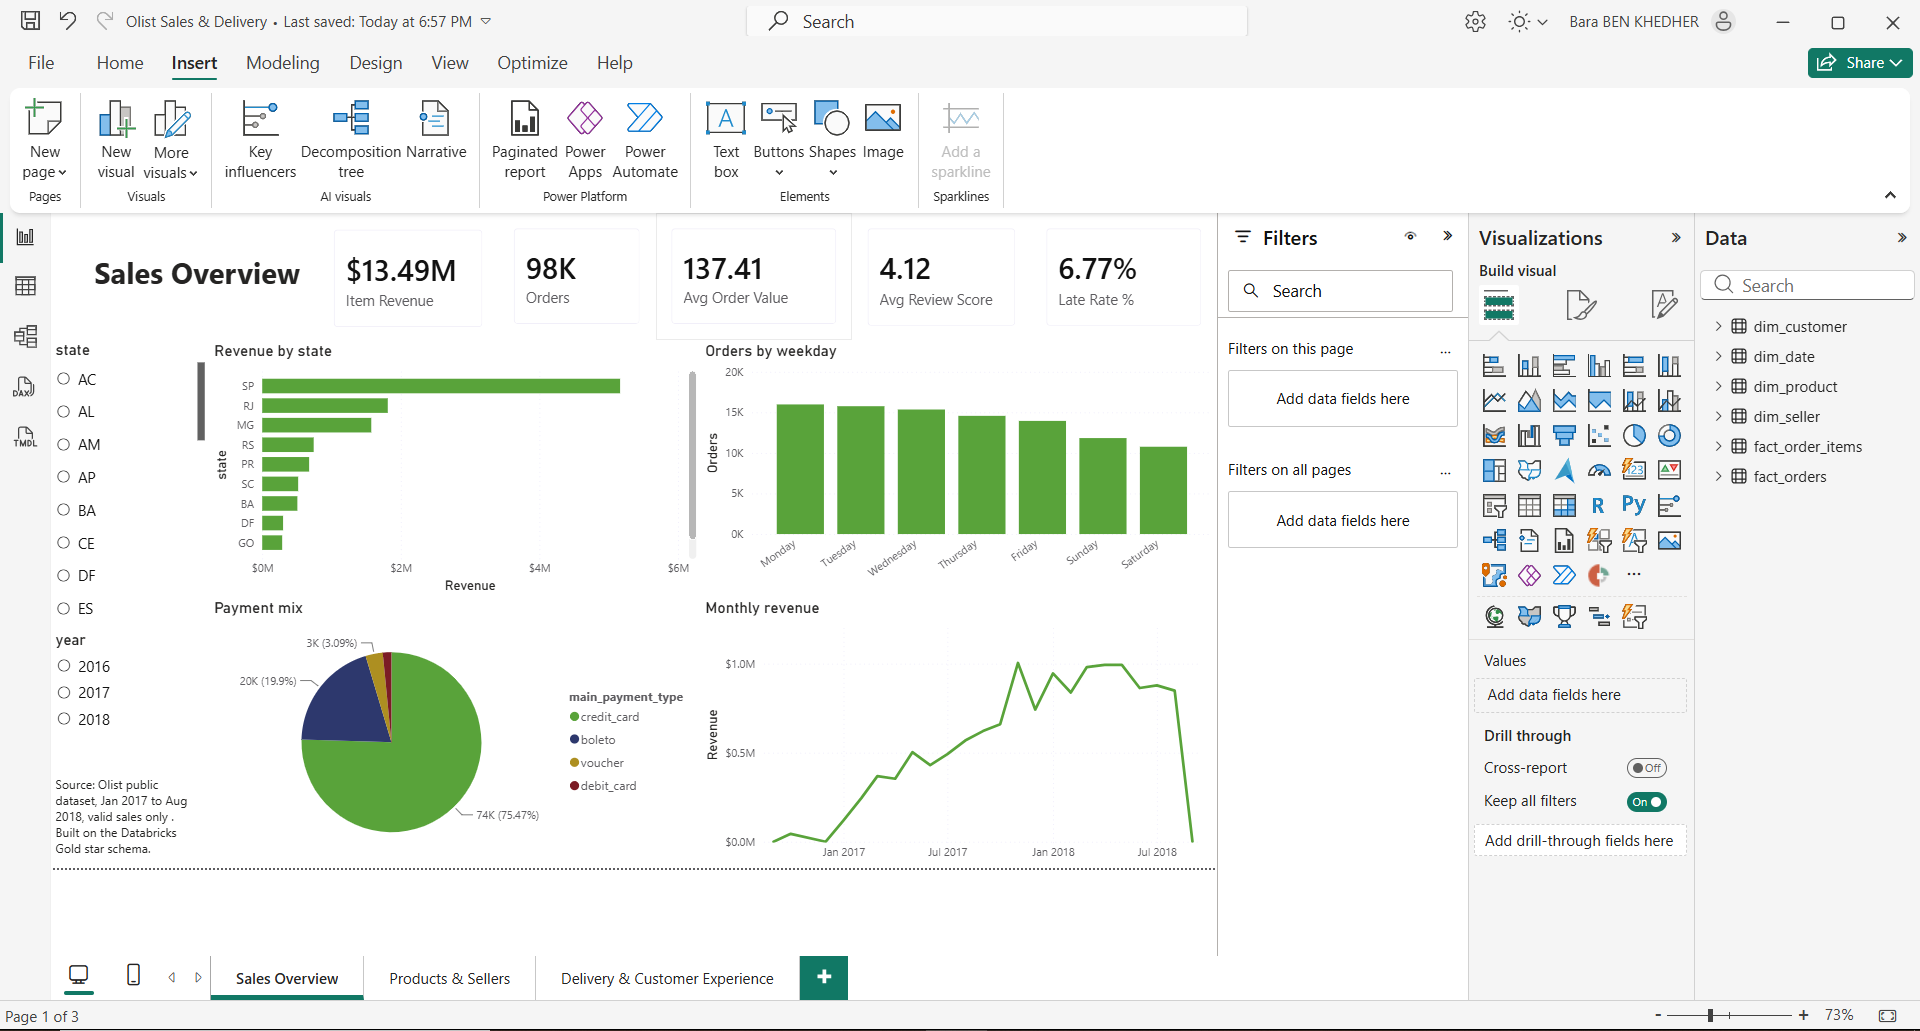

Layout of this report page (visuals, bound fields, positions):
{"tool":"powerbi","page":{"name":"Sales Overview","canvas":[1280,720],"ordinal":0},"visuals":[{"type":"listSlicer","fields":{"Values":["dim_date.year"]},"box":[0,458.3,174.3,262.1],"z":0},{"type":"listSlicer","fields":{"Values":["dim_customer.state"]},"box":[0,140,174.3,318.4],"z":1000},{"type":"cardVisual","fields":{"Data":["fact_orders.Item Revenue"]},"box":[293.7,1.4,197.6,141.3],"z":2000},{"type":"cardVisual","fields":{"Data":["fact_orders.Orders"]},"box":[491.3,0,172.9,140],"z":3000},{"type":"cardVisual","fields":{"Data":["fact_orders.Avg Order Value"]},"box":[664.2,0,215.4,140],"z":4000},{"type":"cardVisual","fields":{"Data":["fact_orders.Avg Review Score"]},"box":[879.6,0,196.2,141.3],"z":5000},{"type":"cardVisual","fields":{"Data":["fact_orders.Late Rate %"]},"box":[1075.8,0,204.5,141.3],"z":6000},{"type":"lineChart","title":"Monthly revenue","fields":{"Category":["dim_date.year_month"],"Y":["fact_orders.Revenue"]},"box":[713.6,422.6,566.7,297.8],"z":7000},{"type":"pieChart","title":"Payment mix","fields":{"Category":["fact_orders.main_payment_type"],"Y":["fact_orders.Orders"]},"box":[174.3,422.6,539.3,297.8],"z":8000},{"type":"clusteredColumnChart","title":"Orders by weekday","fields":{"Category":["dim_date.day_name"],"Y":["fact_orders.Orders"]},"box":[713.6,141.3,566.7,281.3],"z":9000},{"type":"clusteredBarChart","fields":{"Category":["dim_customer.state"],"Y":["fact_orders.Revenue"]},"box":[174.3,141.3,539.3,281.3],"z":10000},{"type":"textbox","box":[41.2,38.4,238.8,67.2],"z":11000},{"type":"textbox","box":[0,613.4,160.5,107],"z":11001}]}

Visuals, with their boxes on the page's 1280x720 design canvas (x1, y1, x2, y2). These are canvas units, not pixel positions in the 1920x1031 screenshot, which may show the page scaled, cropped or inside an application window:
listSlicer - dim_date.year: rect(0, 458, 174, 720)
listSlicer - dim_customer.state: rect(0, 140, 174, 458)
cardVisual - fact_orders.Item Revenue: rect(294, 1, 491, 143)
cardVisual - fact_orders.Orders: rect(491, 0, 664, 140)
cardVisual - fact_orders.Avg Order Value: rect(664, 0, 880, 140)
cardVisual - fact_orders.Avg Review Score: rect(880, 0, 1076, 141)
cardVisual - fact_orders.Late Rate %: rect(1076, 0, 1280, 141)
"Monthly revenue" lineChart: rect(714, 423, 1280, 720)
"Payment mix" pieChart: rect(174, 423, 714, 720)
"Orders by weekday" clusteredColumnChart: rect(714, 141, 1280, 423)
clusteredBarChart - dim_customer.state x fact_orders.Revenue: rect(174, 141, 714, 423)
textbox: rect(41, 38, 280, 106)
textbox: rect(0, 613, 160, 720)
